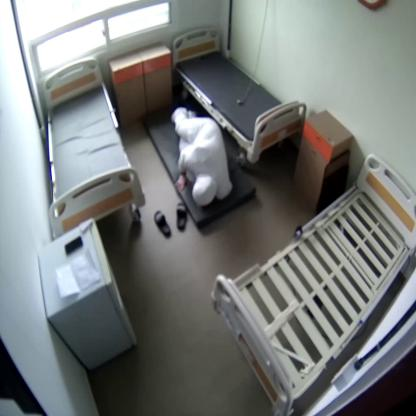Bed: (173, 27, 307, 162)
Person: (172, 109, 233, 207)
